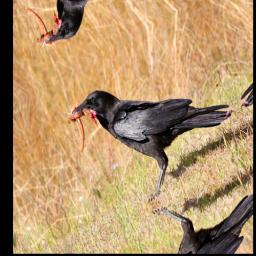Crow: (55, 26, 247, 230)
